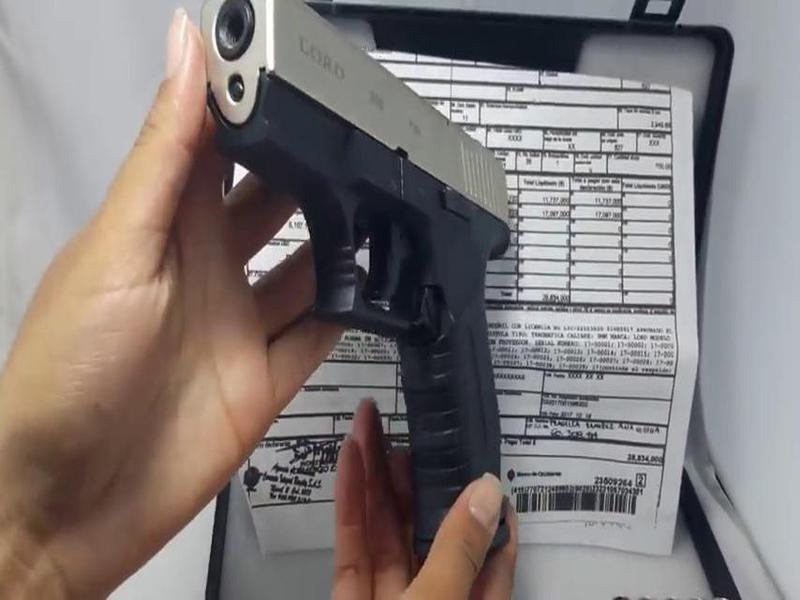Pistola: (174, 1, 525, 556)
